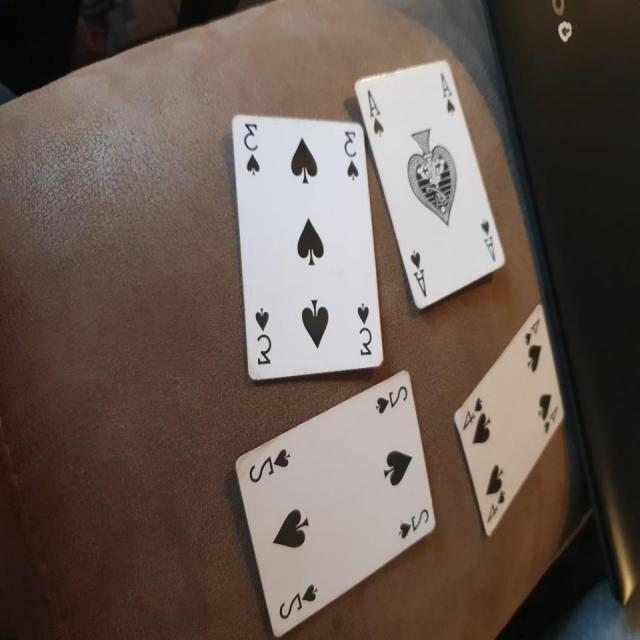2 of spades: (234, 362, 446, 640)
3 of spades: (226, 103, 386, 380)
4 of spades: (447, 303, 573, 550)
ace of spades: (356, 56, 511, 318)
